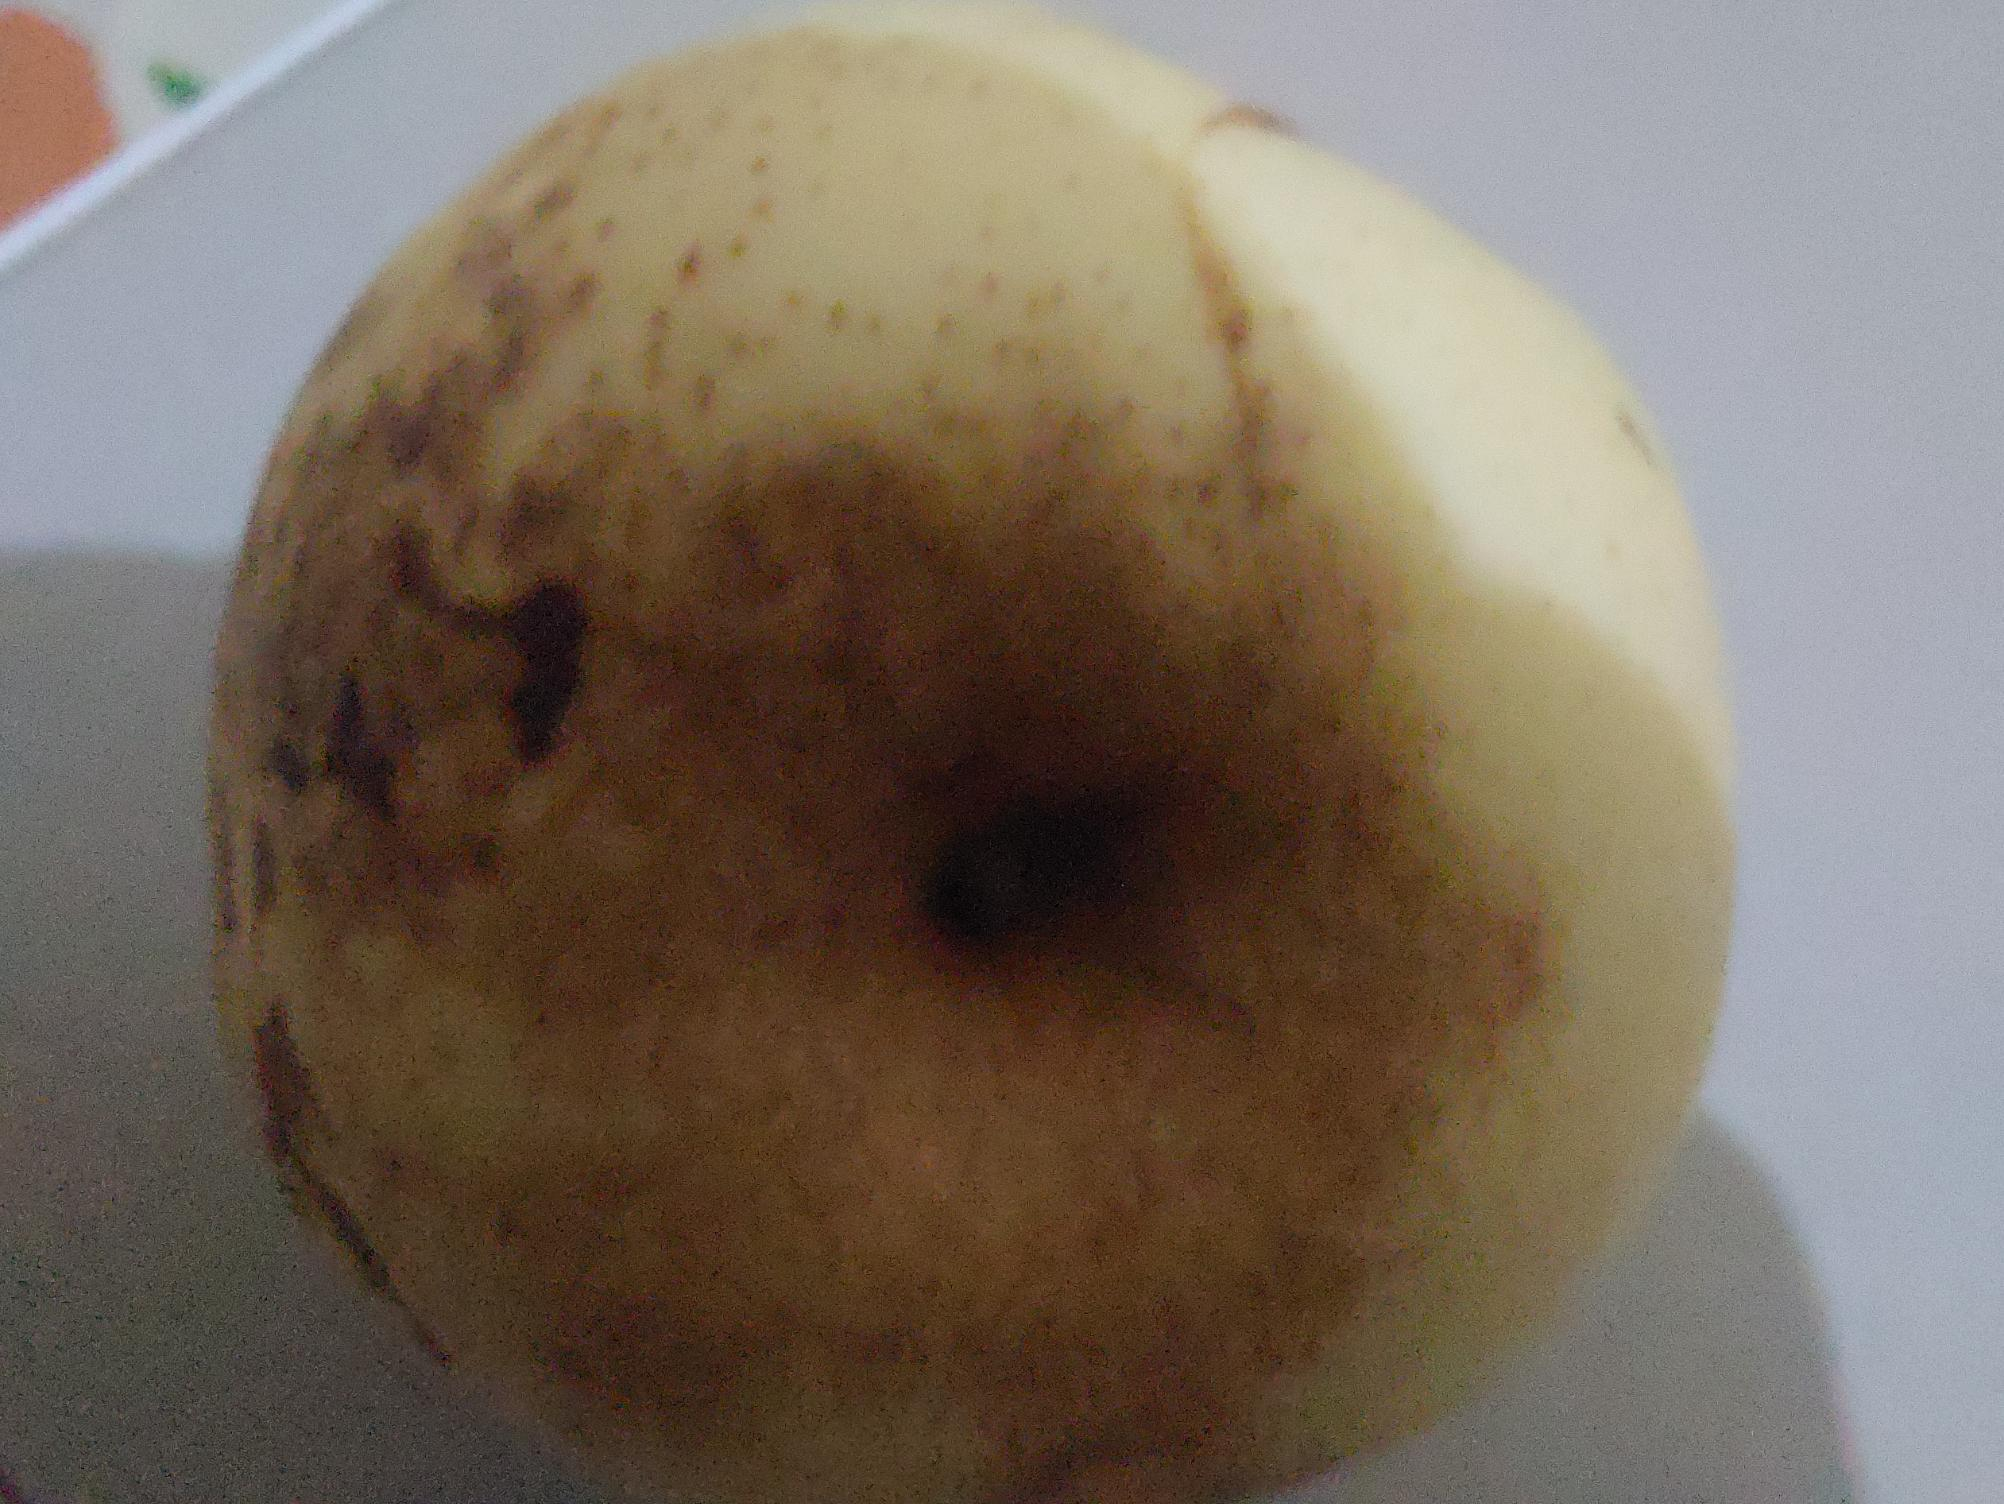Bad Pear: (216, 5, 1720, 1504)
